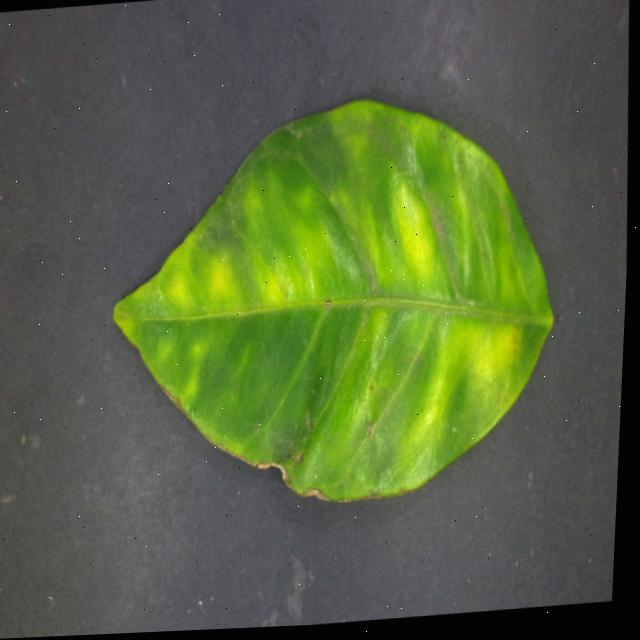greening: (113, 99, 551, 498)
